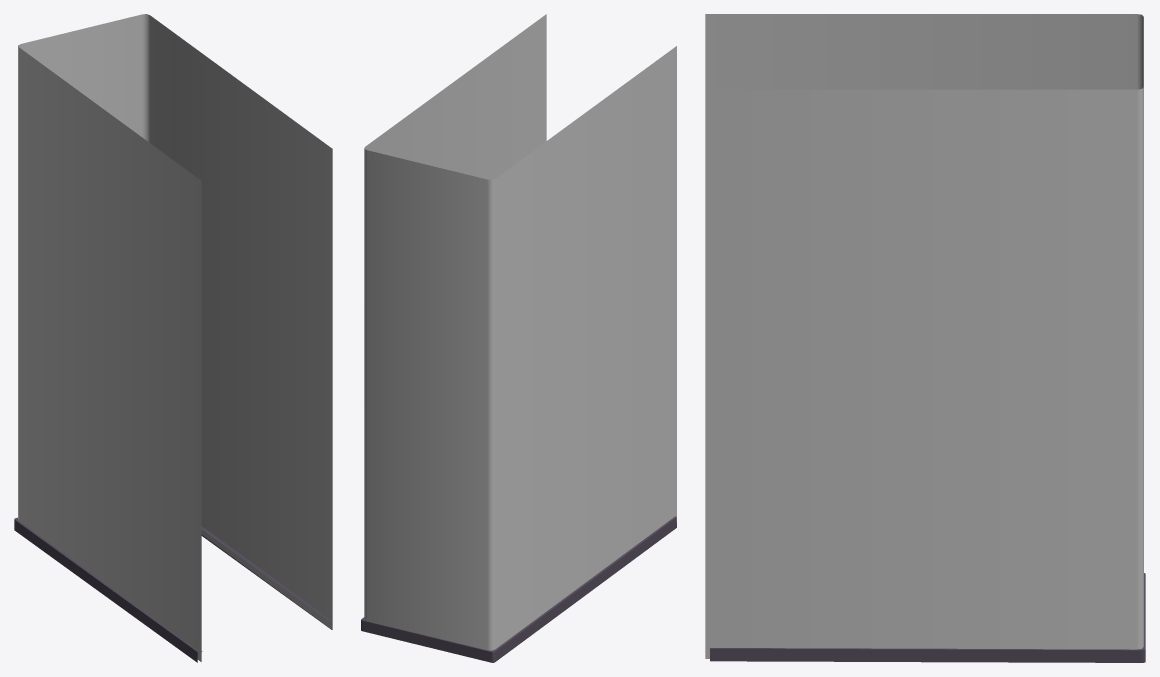
The model's file is WhiteBrick.FBX.
The picture shows the model from 3 angles, left to right: view 1: azimuth 30°, elevation 25°; view 2: azimuth 150°, elevation 25°; view 3: azimuth 270°, elevation 25°; orthographic projection. The views are drawn at different scales.
Visible parts, largest first — view 1: WhiteBrick; view 2: WhiteBrick; view 3: WhiteBrick.
Part boxes in pixels (left/top/right/bottom): WhiteBrick: left=14, top=14, right=332, bottom=662; WhiteBrick: left=361, top=14, right=676, bottom=662; WhiteBrick: left=705, top=14, right=1145, bottom=662.
Bounding box in the file's own units: 3.96 × 13.65 × 9.52.
